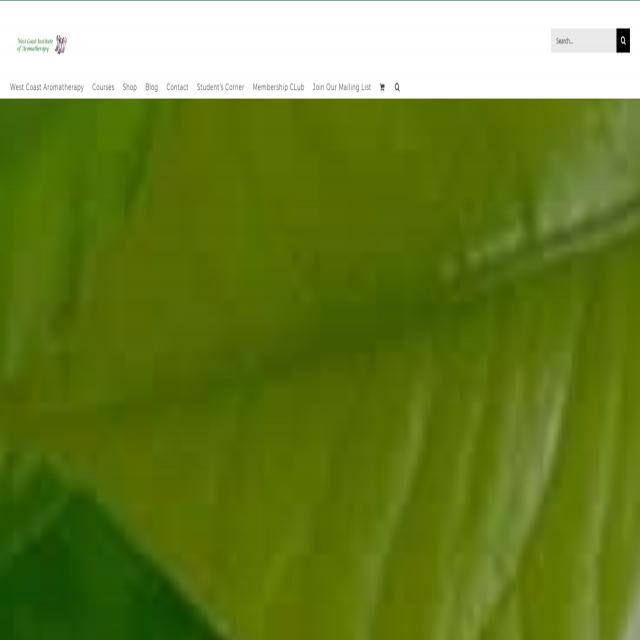button: (10, 25, 74, 55), (10, 74, 84, 99), (313, 74, 371, 99), (253, 74, 305, 99), (197, 74, 245, 99), (92, 73, 114, 98), (167, 74, 189, 99), (123, 74, 137, 99), (616, 28, 630, 52), (146, 74, 158, 99), (378, 73, 388, 98), (395, 74, 400, 99)
field: (551, 28, 615, 51)
